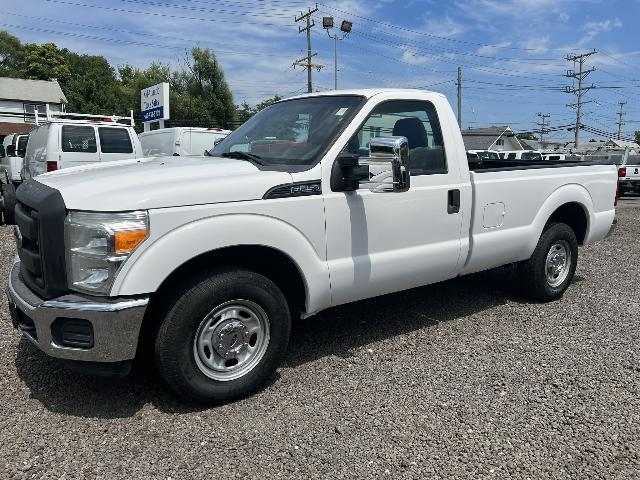pickup-truck: (4, 88, 622, 406)
